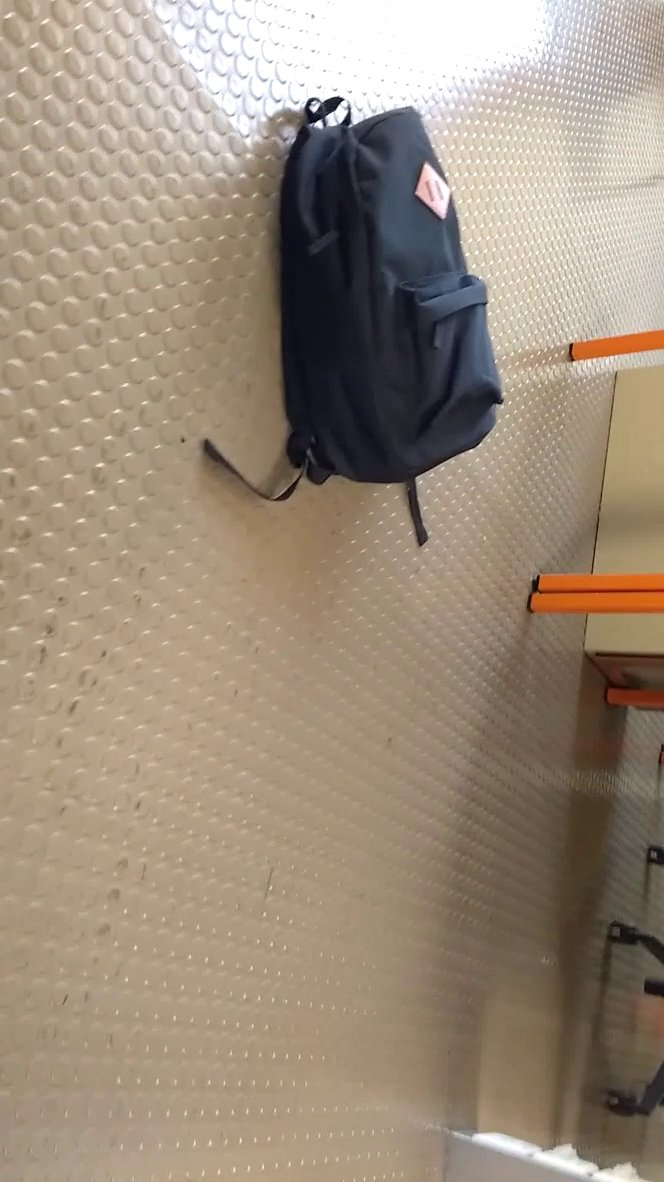bag: (193, 72, 520, 572)
